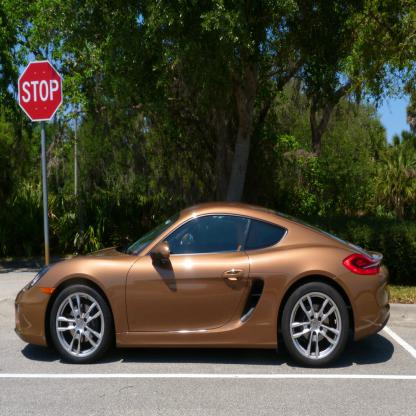Car: (14, 201, 390, 368)
